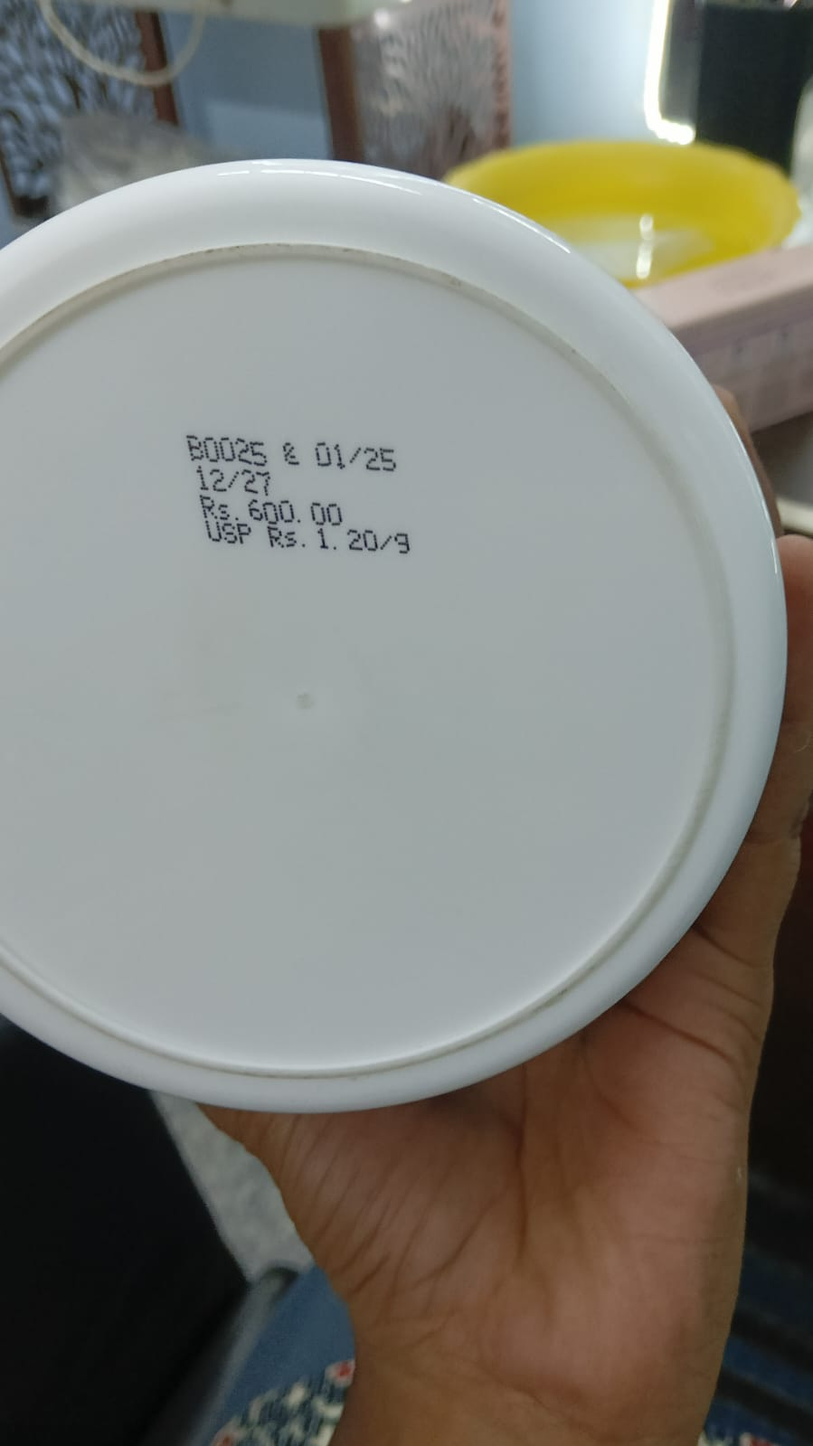mfg_date: (310, 438, 426, 475)
mrp: (184, 493, 366, 527)
